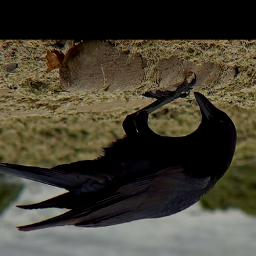Crow: (0, 71, 238, 232)
